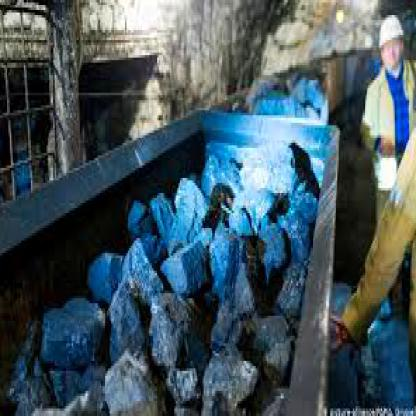Sedimentary_coal: (38, 286, 104, 361), (201, 344, 252, 414), (104, 281, 145, 351), (101, 361, 156, 413), (149, 288, 194, 351), (280, 178, 312, 256), (256, 301, 289, 371), (171, 175, 211, 223)
